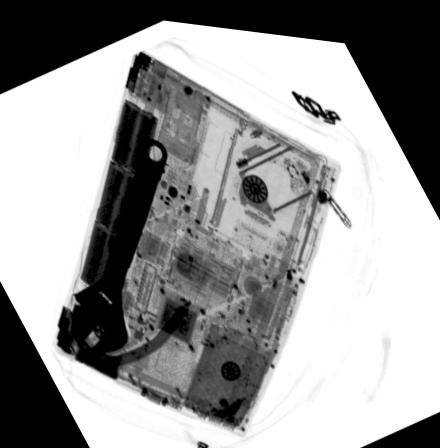Wrench: (68, 133, 168, 353)
